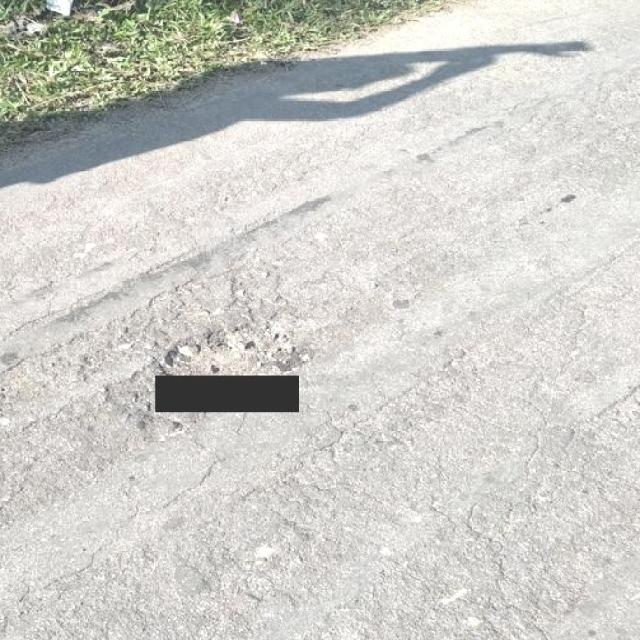road-pothole: (84, 254, 369, 372)
